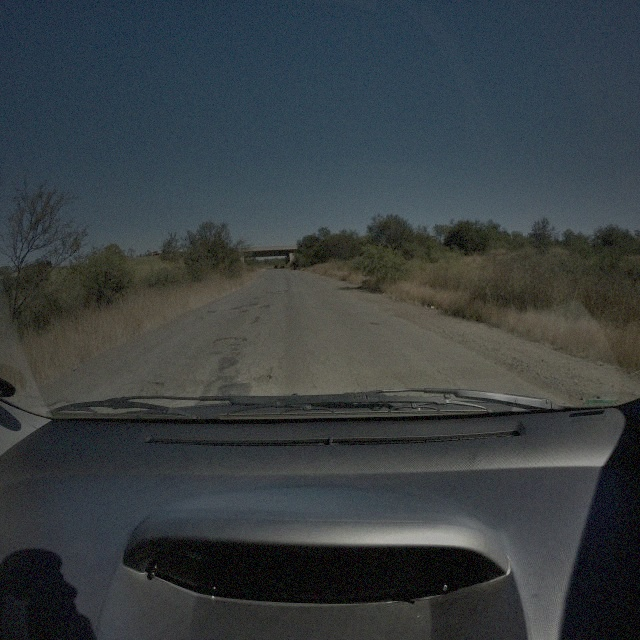pothole: (138, 378, 165, 402), (214, 335, 245, 346), (254, 370, 272, 388)
